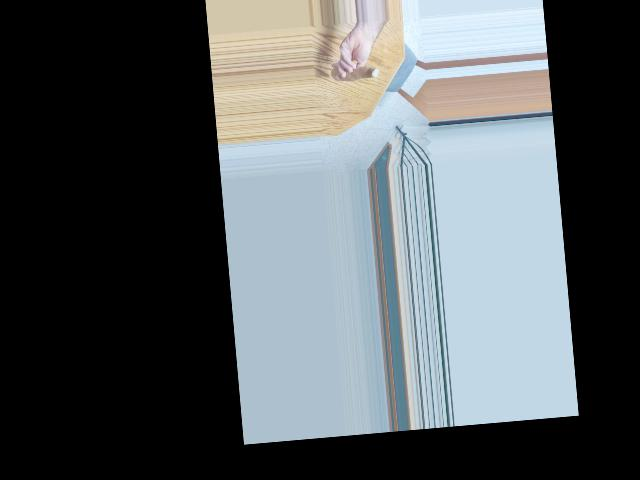sweet_potato: (329, 59, 380, 83)
